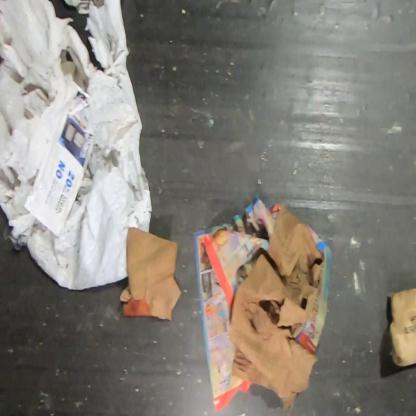cardboard: (228, 204, 324, 412), (119, 227, 182, 321)
rigid_plastic: (388, 278, 415, 367)
soft_plastic: (0, 0, 153, 291)
